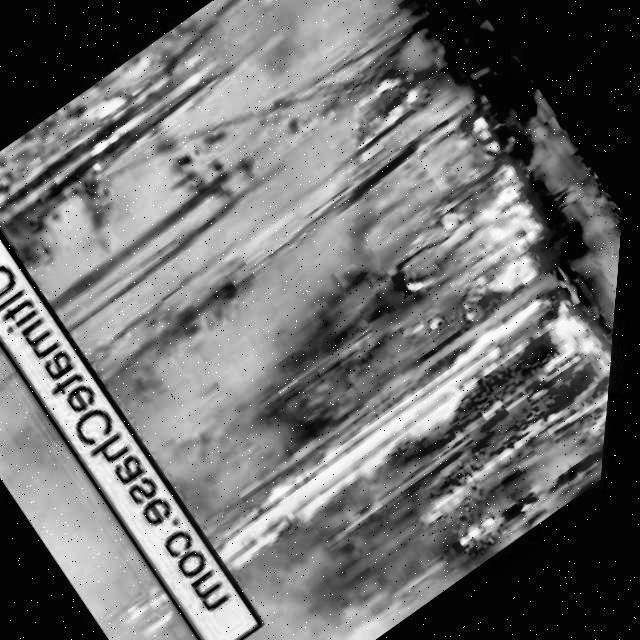Fire: (213, 331, 530, 574), (401, 150, 630, 480), (68, 69, 170, 157), (426, 468, 497, 530), (449, 508, 517, 562), (0, 172, 23, 270)
Smoke: (0, 15, 529, 538), (140, 0, 529, 238)
